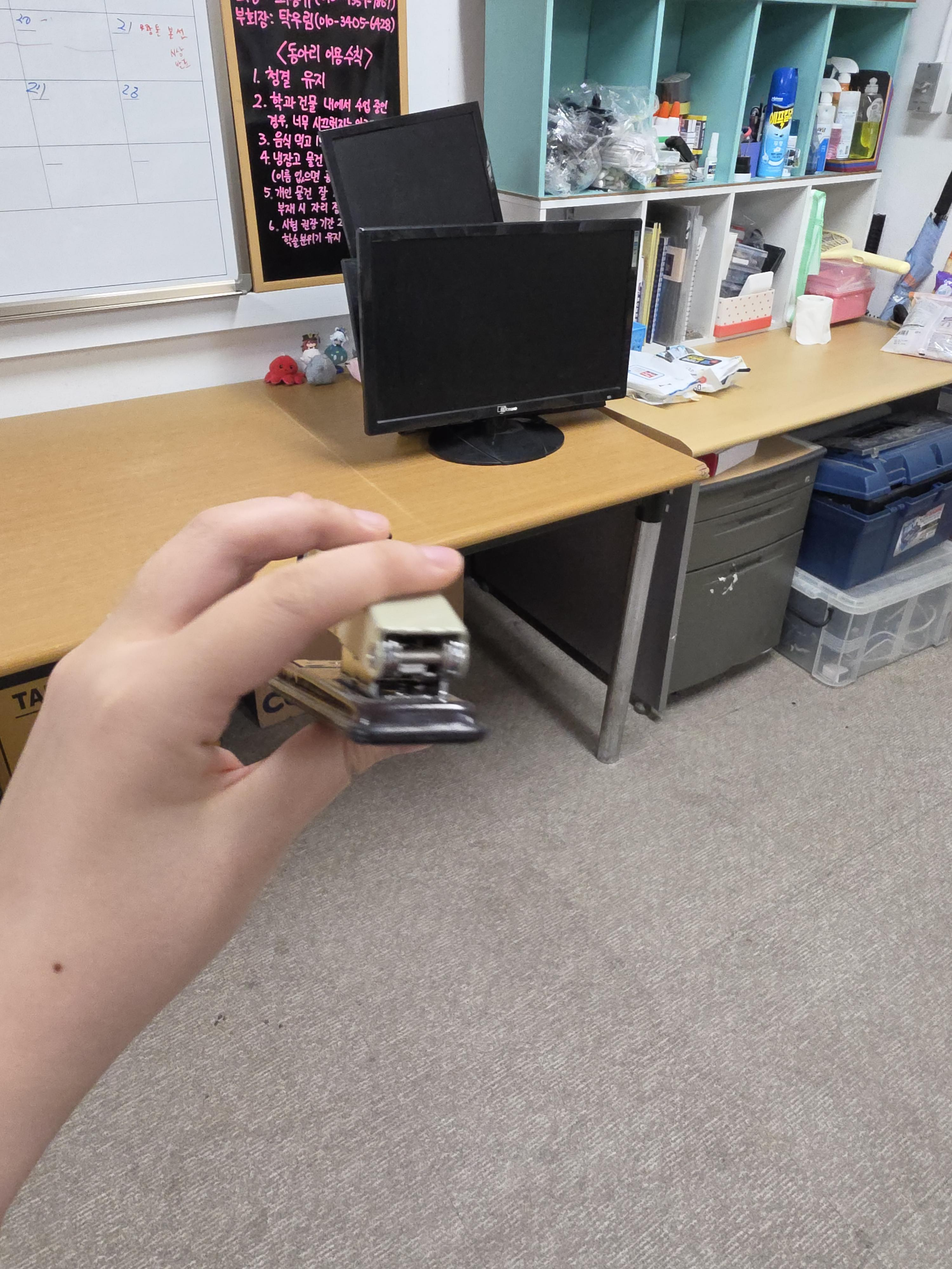stapler: (267, 590, 491, 748)
tissue: (790, 294, 834, 346)
